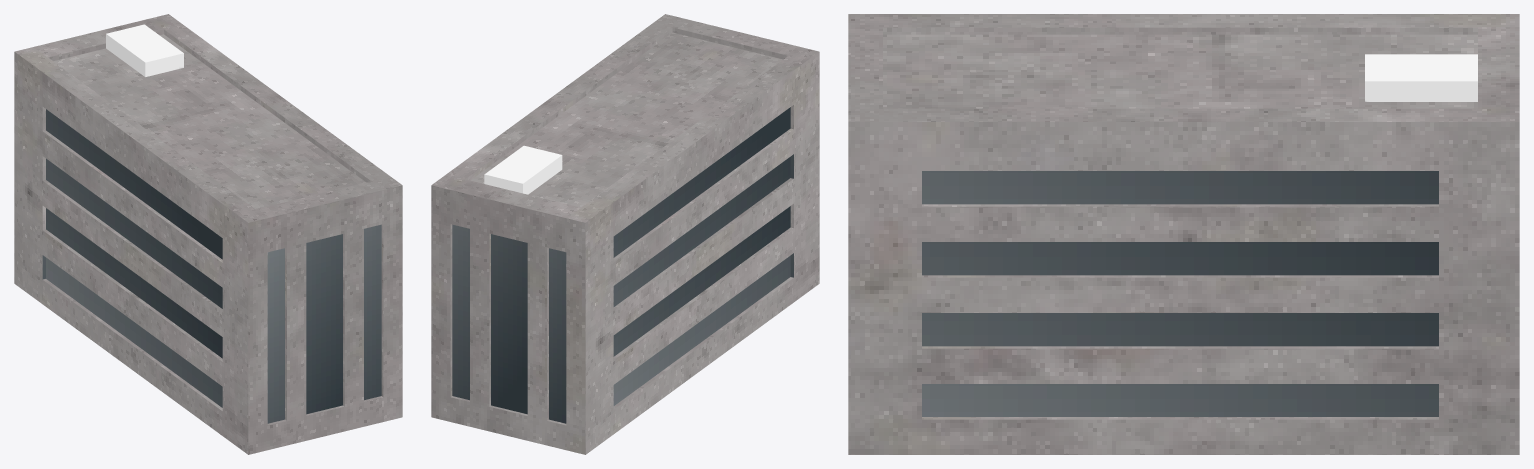
Rendered from building2.glb.
3 views of the same model, side by side, from view 1: azimuth 30°, elevation 25°; view 2: azimuth 150°, elevation 25°; view 3: azimuth 270°, elevation 25° (orthographic). The views are drawn at different scales.
Parts seen in each view (by area): view 1: Cube; view 2: Cube; view 3: Cube.
Boxes of the visible parts, x1,y1,x2,y2 form: Cube: (14,14,402,454); Cube: (431,14,819,454); Cube: (848,14,1519,454).
Bounding box in the file's own units: 22.12 × 33.12 × 58.12.
1 material, 1 textured.
